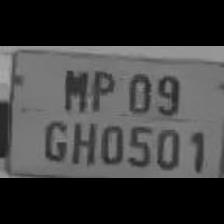0: (120, 66, 152, 116), (150, 122, 182, 170), (96, 119, 124, 165)
1: (182, 124, 208, 174)
5: (124, 120, 153, 168)
9: (151, 68, 183, 116)
G: (38, 116, 70, 164)
H: (68, 116, 96, 168)
M: (60, 62, 88, 113)
P: (88, 66, 116, 114)
